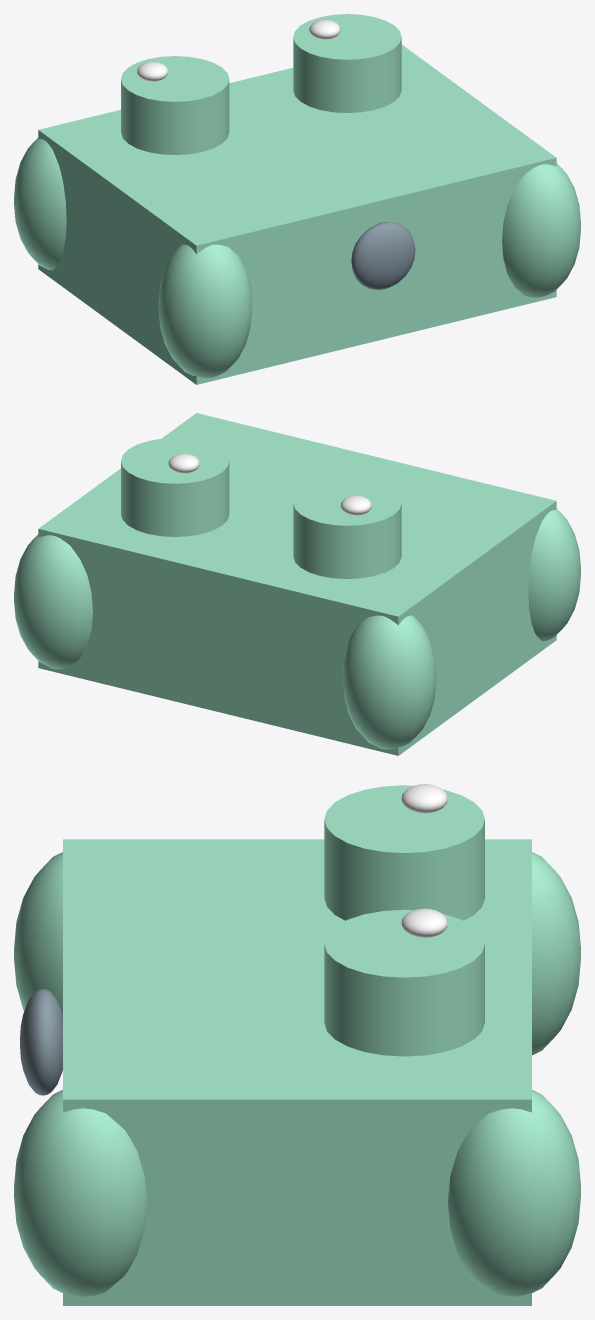
The model's file is block-green.glb.
3 views of the same model, one above another, from view 1: azimuth 30°, elevation 25°; view 2: azimuth 150°, elevation 25°; view 3: azimuth 270°, elevation 25° (orthographic). The views are drawn at different scales.
Parts seen in each view (by area): view 1: rounded body, rounded corner (×3), top peg (×2), front dot, peg shine (×2); view 2: rounded body, rounded corner (×3), top peg (×2), peg shine (×2); view 3: rounded body, rounded corner (×4), top peg (×2), front dot, peg shine (×2).
Boxes of the visible parts, bbox=[...] form: rounded body: bbox=[38, 44, 556, 384]; rounded corner (×3): bbox=[14, 137, 580, 378]; top peg (×2): bbox=[121, 14, 401, 154]; front dot: bbox=[351, 221, 415, 289]; peg shine (×2): bbox=[137, 19, 340, 81]; rounded body: bbox=[38, 413, 556, 755]; rounded corner (×3): bbox=[14, 508, 580, 749]; top peg (×2): bbox=[121, 438, 401, 578]; peg shine (×2): bbox=[168, 453, 371, 515]; rounded body: bbox=[63, 839, 531, 1305]; rounded corner (×4): bbox=[14, 852, 580, 1297]; top peg (×2): bbox=[324, 785, 484, 1056]; front dot: bbox=[20, 989, 62, 1095]; peg shine (×2): bbox=[401, 784, 447, 937].
Bounding box in the file's own units: 1.05 × 0.518 × 0.8468.
